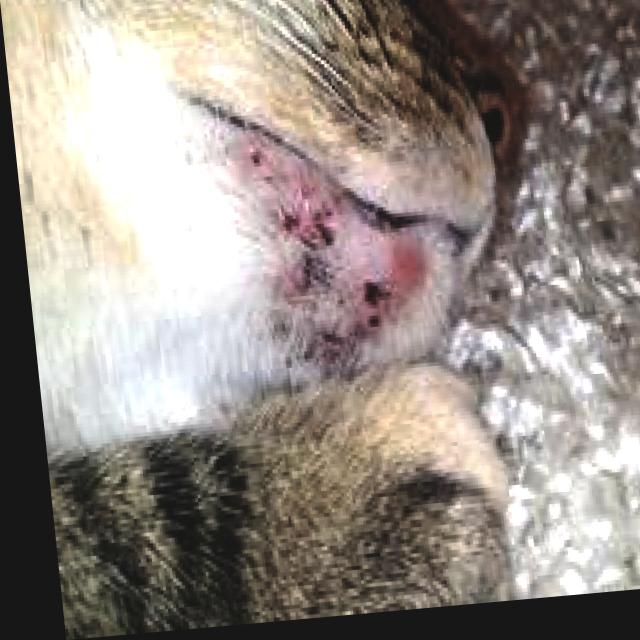acne: (254, 143, 474, 381)
